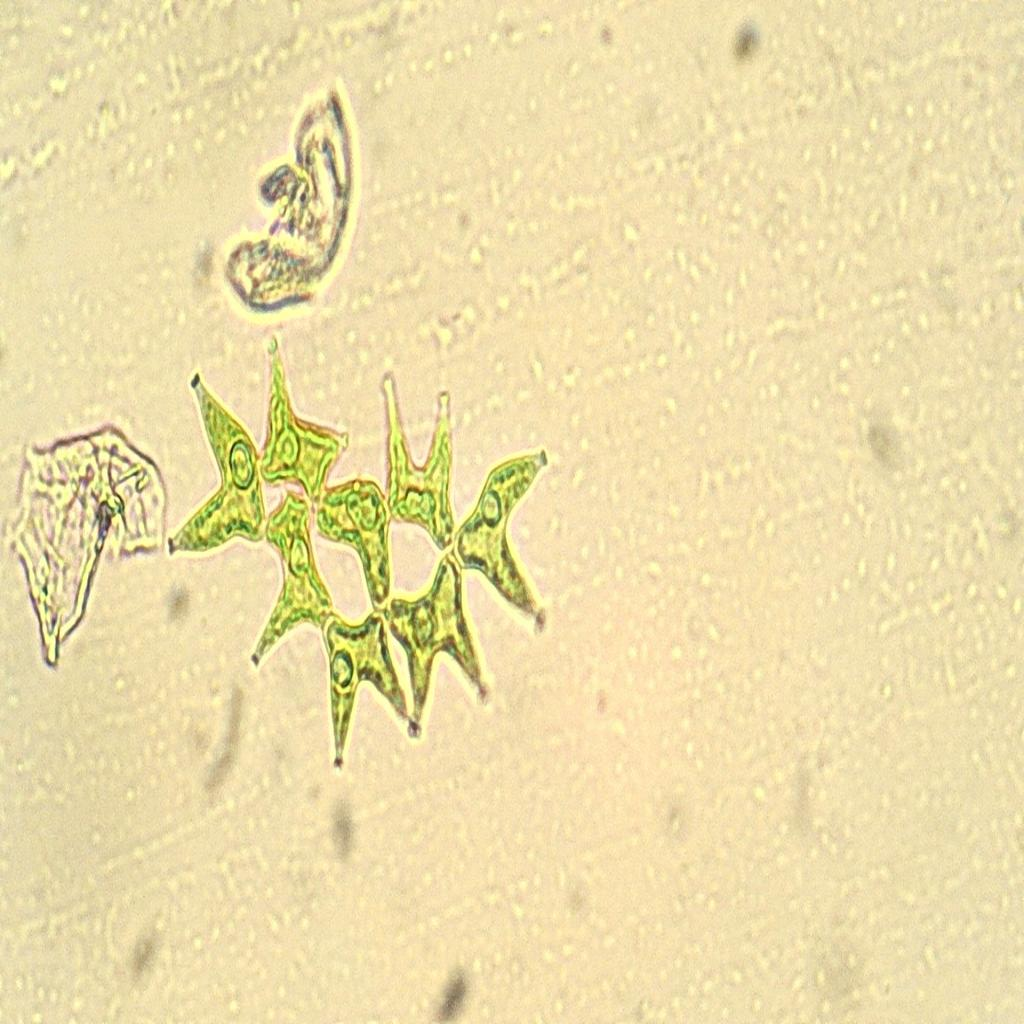Pediastrum_CFI: (163, 321, 567, 777)
